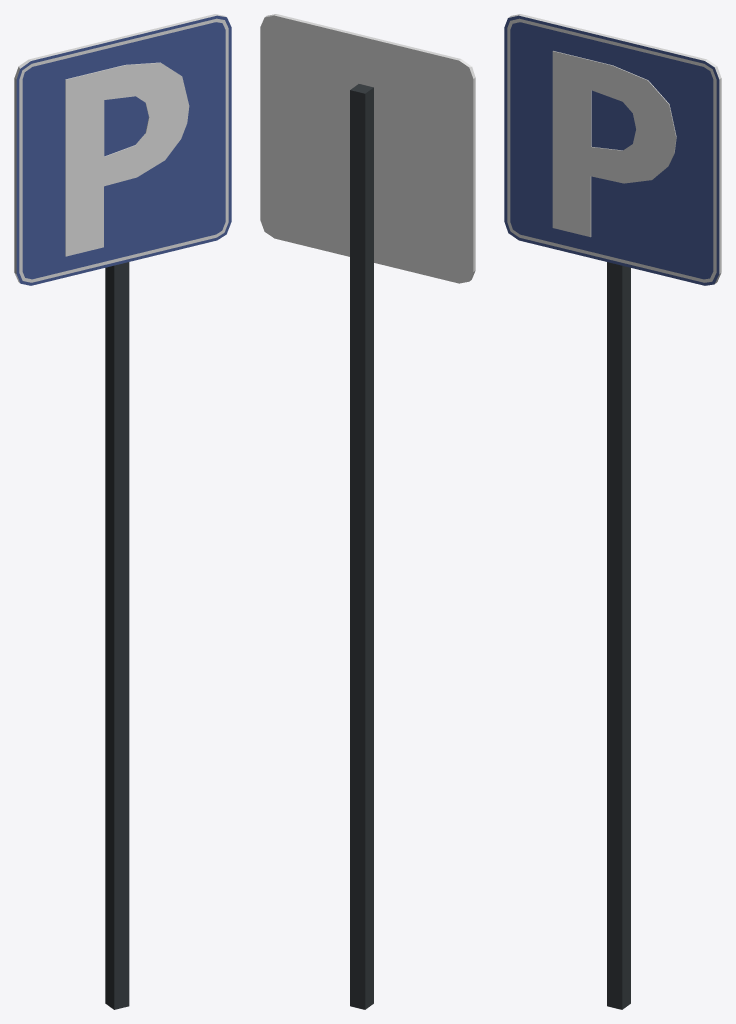
Rendered from SM_FloorProps_RoadSign_16.fbx.
The picture shows the model from 3 angles, left to right: view 1: azimuth 30°, elevation 25°; view 2: azimuth 150°, elevation 25°; view 3: azimuth 330°, elevation 25°; orthographic projection.
Parts seen in each view (by area): view 1: SM_FloorProps_RoadSign_16; view 2: SM_FloorProps_RoadSign_16; view 3: SM_FloorProps_RoadSign_16.
Part boxes in pixels (left/top/right/bottom): SM_FloorProps_RoadSign_16: left=14, top=14, right=231, bottom=1009; SM_FloorProps_RoadSign_16: left=260, top=14, right=475, bottom=1009; SM_FloorProps_RoadSign_16: left=504, top=14, right=721, bottom=1009.
Bounding box in the file's own units: 0.6082 × 2.63 × 0.0574.
